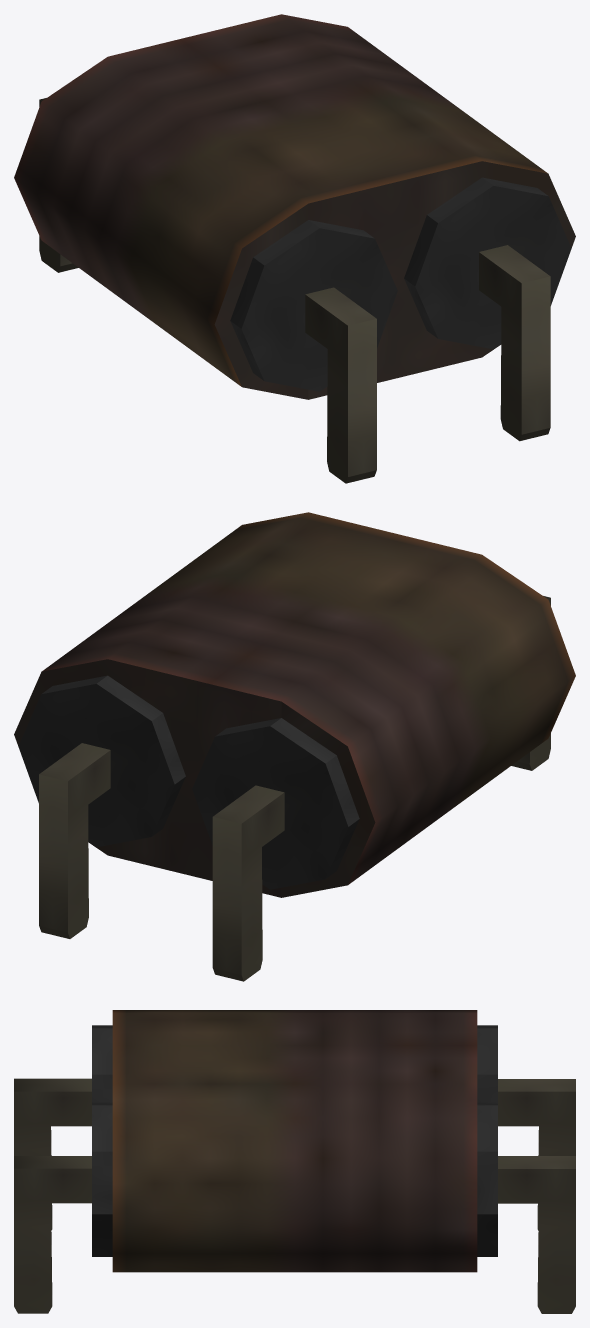
Rendered from capacitor_etx_6_2.obj.
3 views of the same model, one above another, from view 1: azimuth 30°, elevation 25°; view 2: azimuth 150°, elevation 25°; view 3: azimuth 270°, elevation 25° (orthographic). The views are drawn at different scales.
Visible parts, largest first — view 1: capacitor_etx_6_2; view 2: capacitor_etx_6_2; view 3: capacitor_etx_6_2.
Boxes of the visible parts, x1,y1,x2,y2 form: capacitor_etx_6_2: (14,14,575,483); capacitor_etx_6_2: (14,512,575,981); capacitor_etx_6_2: (14,1010,575,1313).
Bounding box in the file's own units: 0.0832 × 0.0525 × 0.1232.
